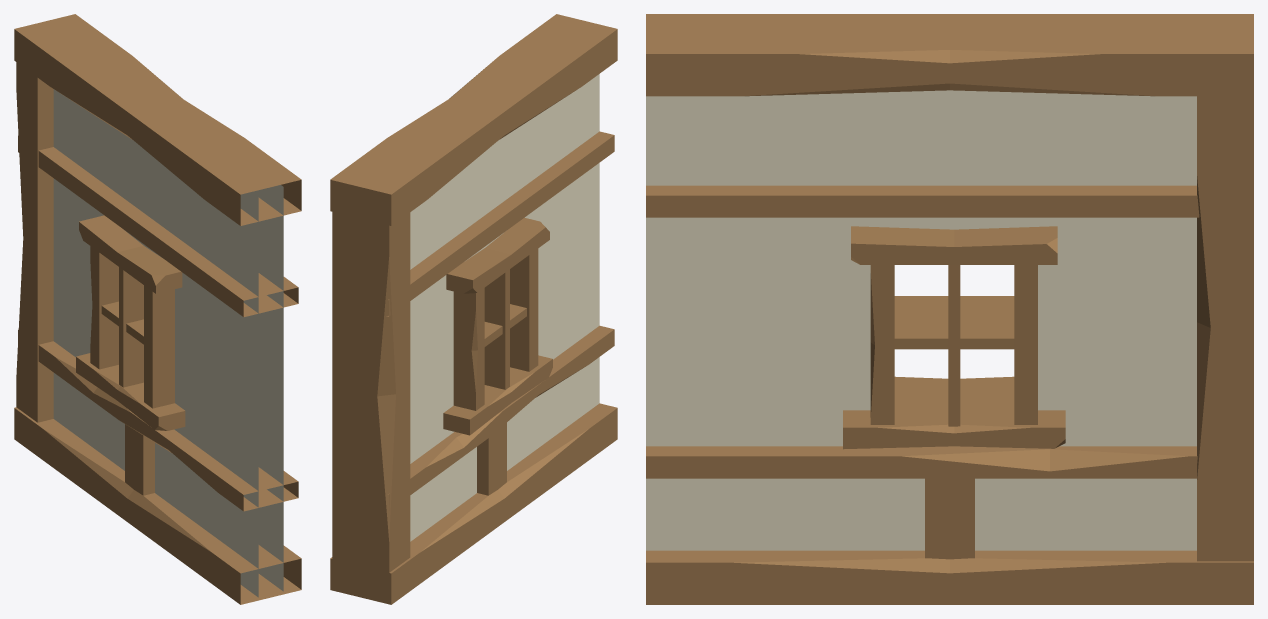
File: SFV_Window3_Wooden_M_001.fbx
The picture shows the model from 3 angles, left to right: view 1: azimuth 30°, elevation 25°; view 2: azimuth 150°, elevation 25°; view 3: azimuth 270°, elevation 25°; orthographic projection. The views are drawn at different scales.
Visible parts, largest first — view 1: SFV_Window3_Wooden_M_001; view 2: SFV_Window3_Wooden_M_001; view 3: SFV_Window3_Wooden_M_001.
Part boxes in pixels (bbox=[...]): SFV_Window3_Wooden_M_001: bbox=[14, 14, 301, 604]; SFV_Window3_Wooden_M_001: bbox=[330, 14, 617, 604]; SFV_Window3_Wooden_M_001: bbox=[646, 14, 1253, 604].
Bounding box in the file's own units: 59.78 × 300 × 300.
